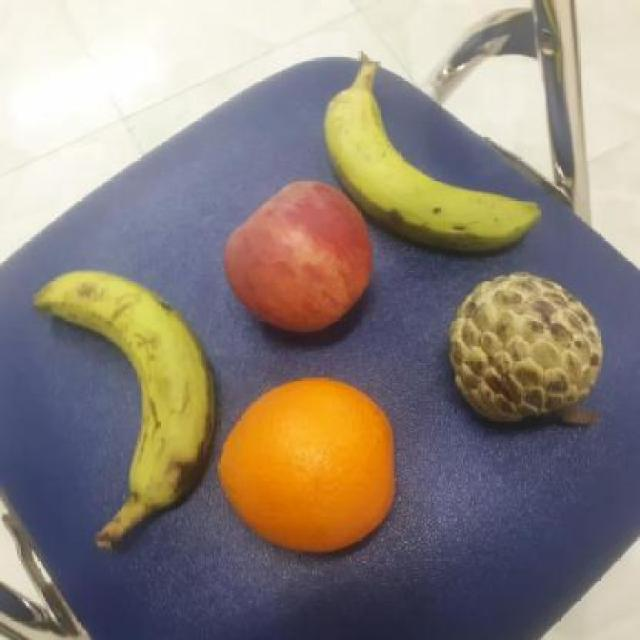apple: (218, 174, 378, 334)
banana: (31, 263, 217, 511), (320, 79, 546, 256)
oren: (211, 370, 400, 556)
sugar apple: (443, 269, 606, 433)
